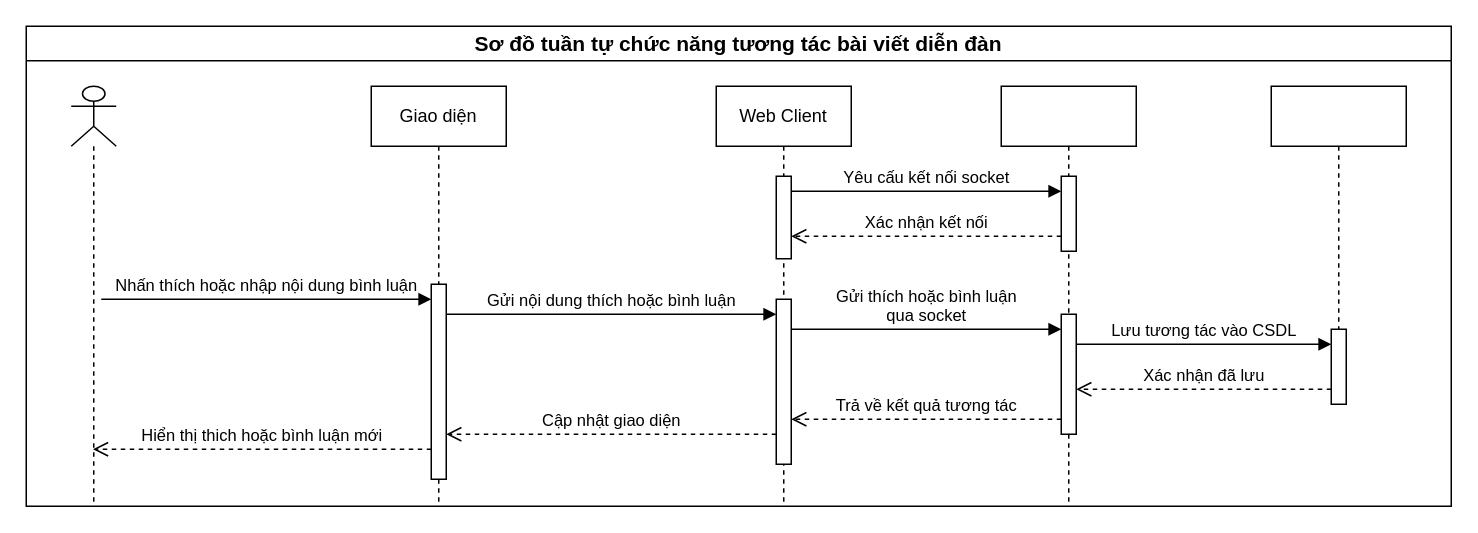
This 1478x533 diagram has some shape labels left out. The shapes that lost their labels are listed below. From the top down, each one's box as (x1, y1, x2, y2) in pixels, then its label:
(1270, 85, 1406, 401): MySQL
(1000, 85, 1136, 506): Web socket
